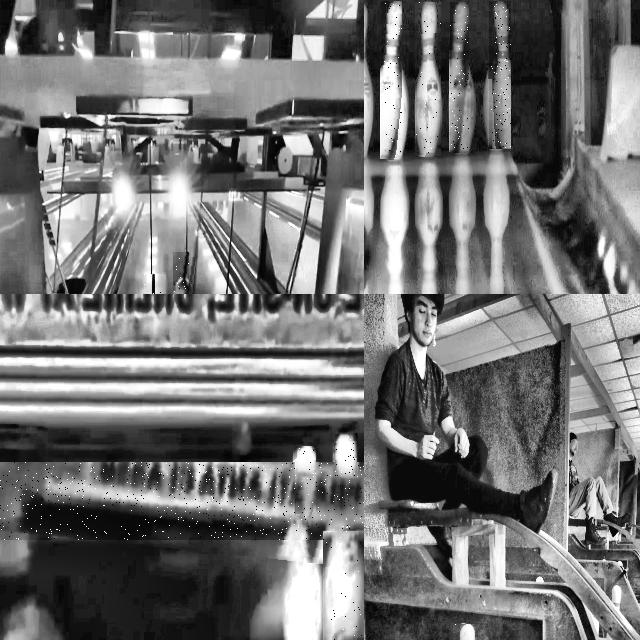bowling-pins: (324, 531, 364, 640), (283, 530, 322, 640), (416, 2, 440, 154), (382, 2, 402, 156), (491, 2, 510, 149), (450, 2, 468, 153), (364, 5, 373, 158), (296, 447, 315, 515), (335, 435, 357, 477)
sweep board: (0, 462, 364, 540)
